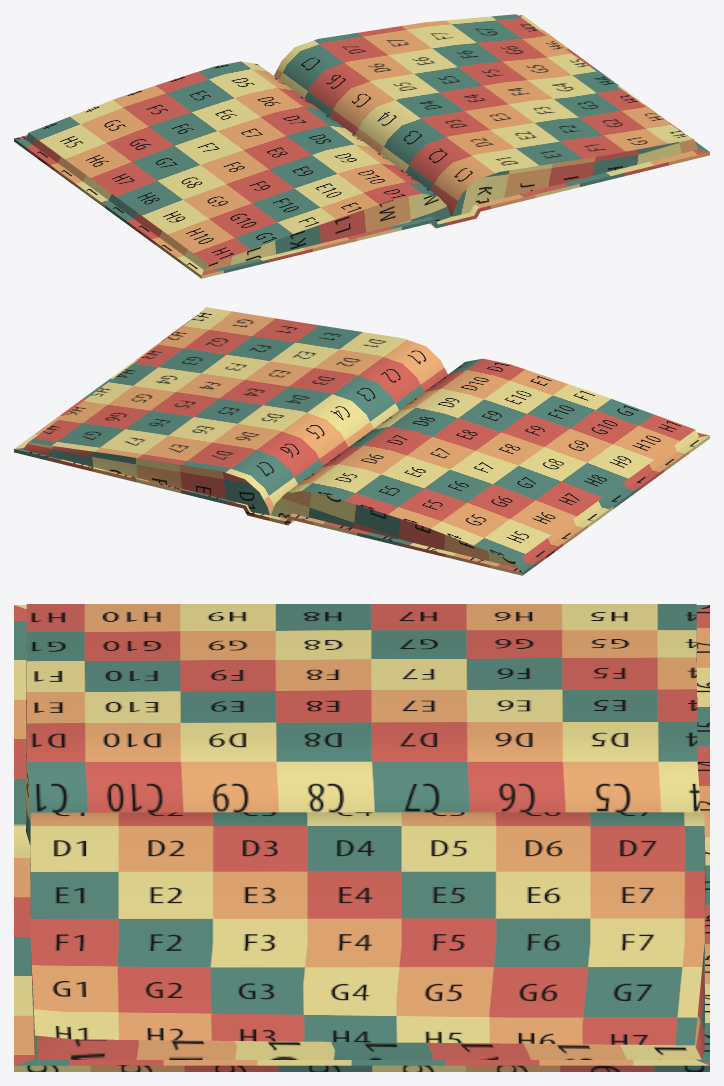
The model's file is SM_Book_01b.fbx.
3 renders of one model, top to bottom at view 1: azimuth 30°, elevation 25°; view 2: azimuth 150°, elevation 25°; view 3: azimuth 270°, elevation 25°, orthographic. The views are drawn at different scales.
Parts seen in each view (by area): view 1: SM_Book_01b; view 2: SM_Book_01b; view 3: SM_Book_01b.
Part boxes in pixels (box(x1,y1,x2,y2)): SM_Book_01b: box(14, 14, 709, 278); SM_Book_01b: box(14, 307, 709, 575); SM_Book_01b: box(14, 604, 709, 1071).
Size of the model in its own units: 54.65 by 3.76 by 34.92.
Materials: 1 (1 with a texture image).
